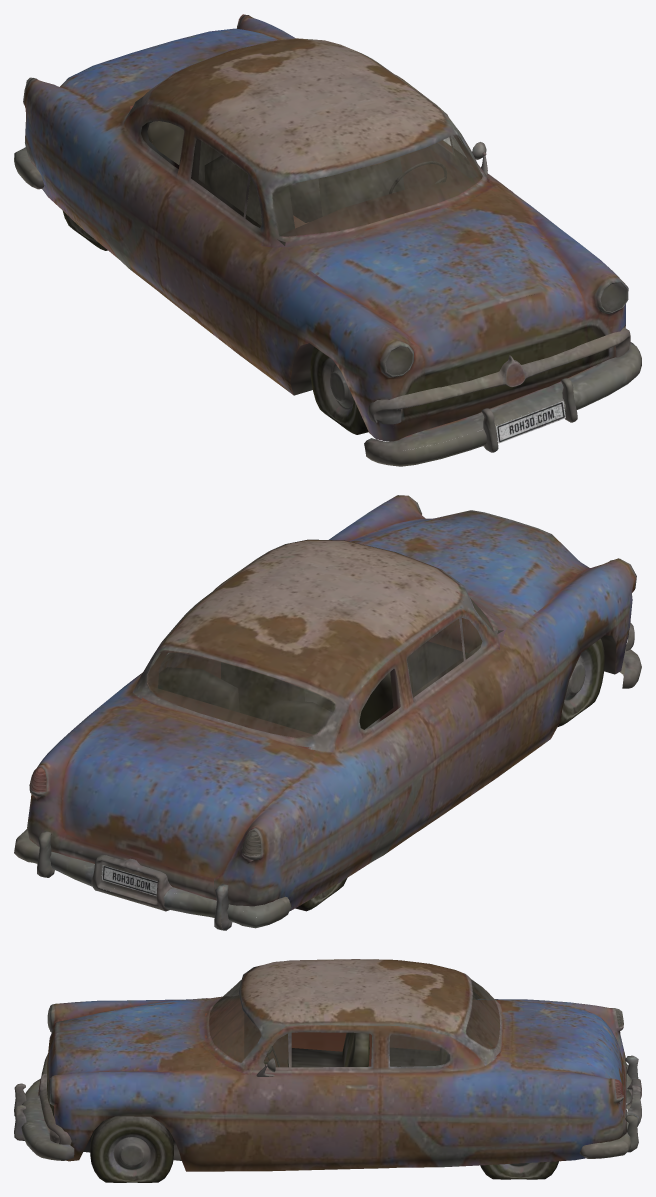
The model's file is p_hudson_abandoned.glb.
3 renders of one model, top to bottom at view 1: azimuth 30°, elevation 25°; view 2: azimuth 150°, elevation 25°; view 3: azimuth 270°, elevation 25°, orthographic. The views are drawn at different scales.
Visible parts, largest first — view 1: Object_2, Object_3; view 2: Object_2, Object_3; view 3: Object_2, Object_3.
Part boxes in pixels (<box>): Object_2: <box>23,14,641,464</box>; Object_3: <box>14,15,638,466</box>; Object_2: <box>14,495,641,930</box>; Object_3: <box>14,516,639,930</box>; Object_2: <box>14,959,641,1182</box>; Object_3: <box>14,978,641,1182</box>.
Size of the model in its own units: 2031 by 1433 by 5181.
1 material, 1 textured.
